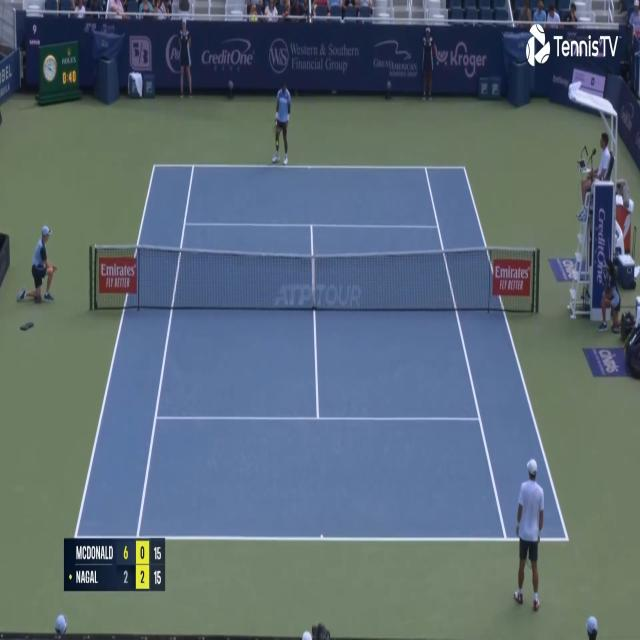tennis-player: (512, 457, 544, 614), (271, 76, 292, 168)
